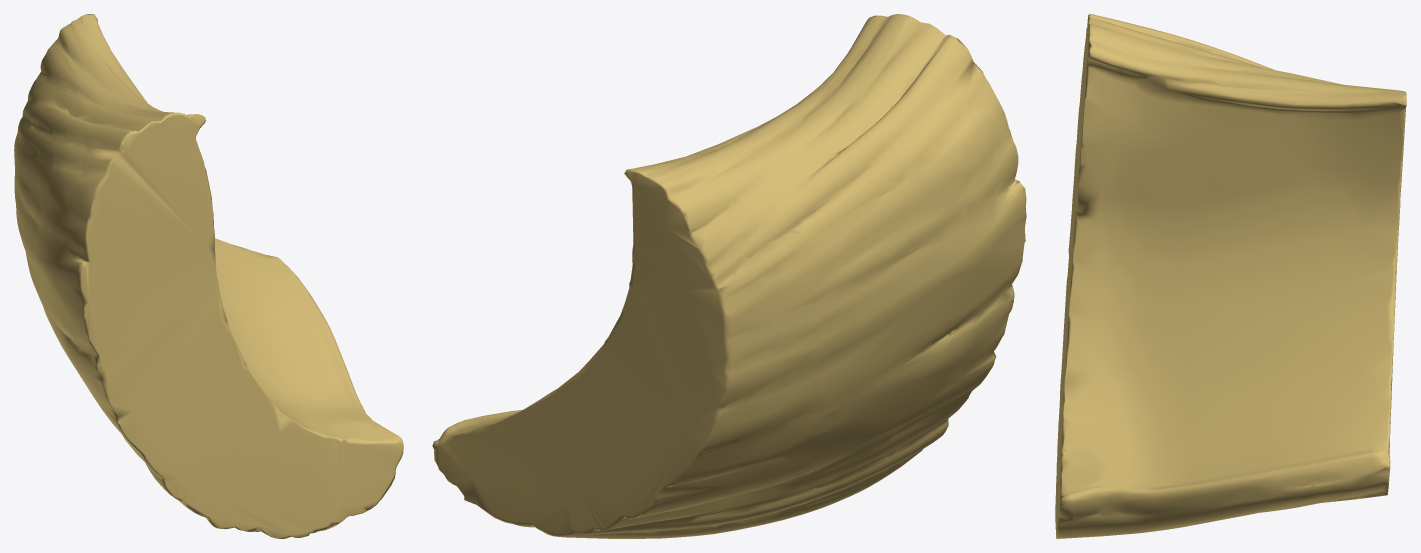
The picture shows the model from 3 angles, left to right: view 1: azimuth 30°, elevation 25°; view 2: azimuth 150°, elevation 25°; view 3: azimuth 270°, elevation 25°; orthographic projection. The views are drawn at different scales.
Parts seen in each view (by area): view 1: 右侧大脑脚底; view 2: 右侧大脑脚底; view 3: 右侧大脑脚底.
Part boxes in pixels (x1,y1,x2,y2): 右侧大脑脚底: (14, 14, 403, 538); 右侧大脑脚底: (432, 14, 1026, 538); 右侧大脑脚底: (1055, 14, 1406, 538).
Size of the model in its own units: 0.0277 by 0.0328 by 0.0239.
